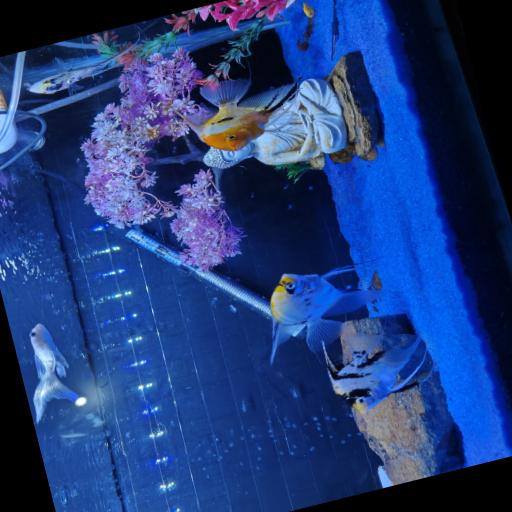Fish: (271, 264, 390, 361), (178, 78, 295, 150), (323, 332, 426, 411), (28, 43, 138, 93), (30, 323, 85, 422), (303, 2, 314, 17)
